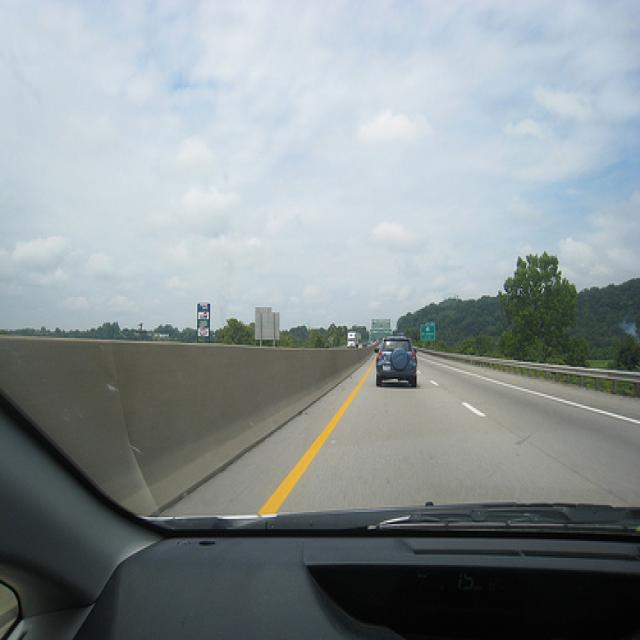car: (374, 336, 420, 389)
